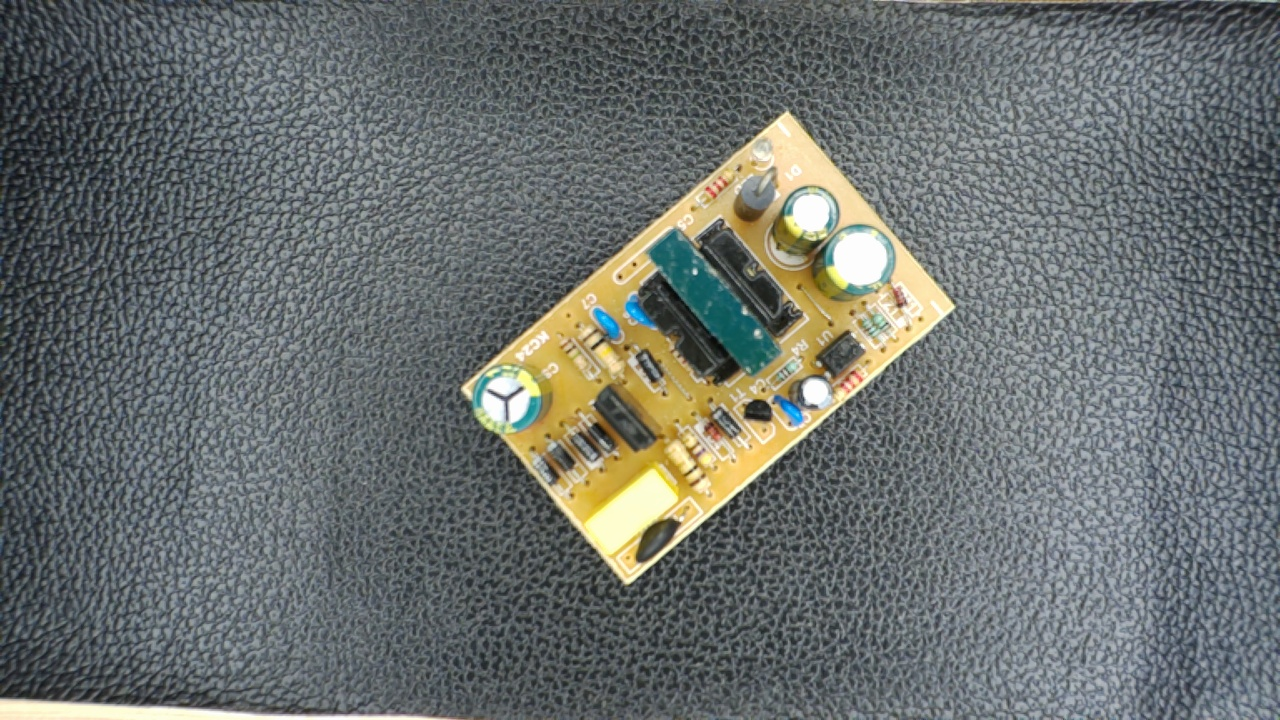fuse: (620, 510, 689, 572)
hv_capacitor: (464, 362, 555, 438)
optocoupler: (813, 329, 870, 381)
